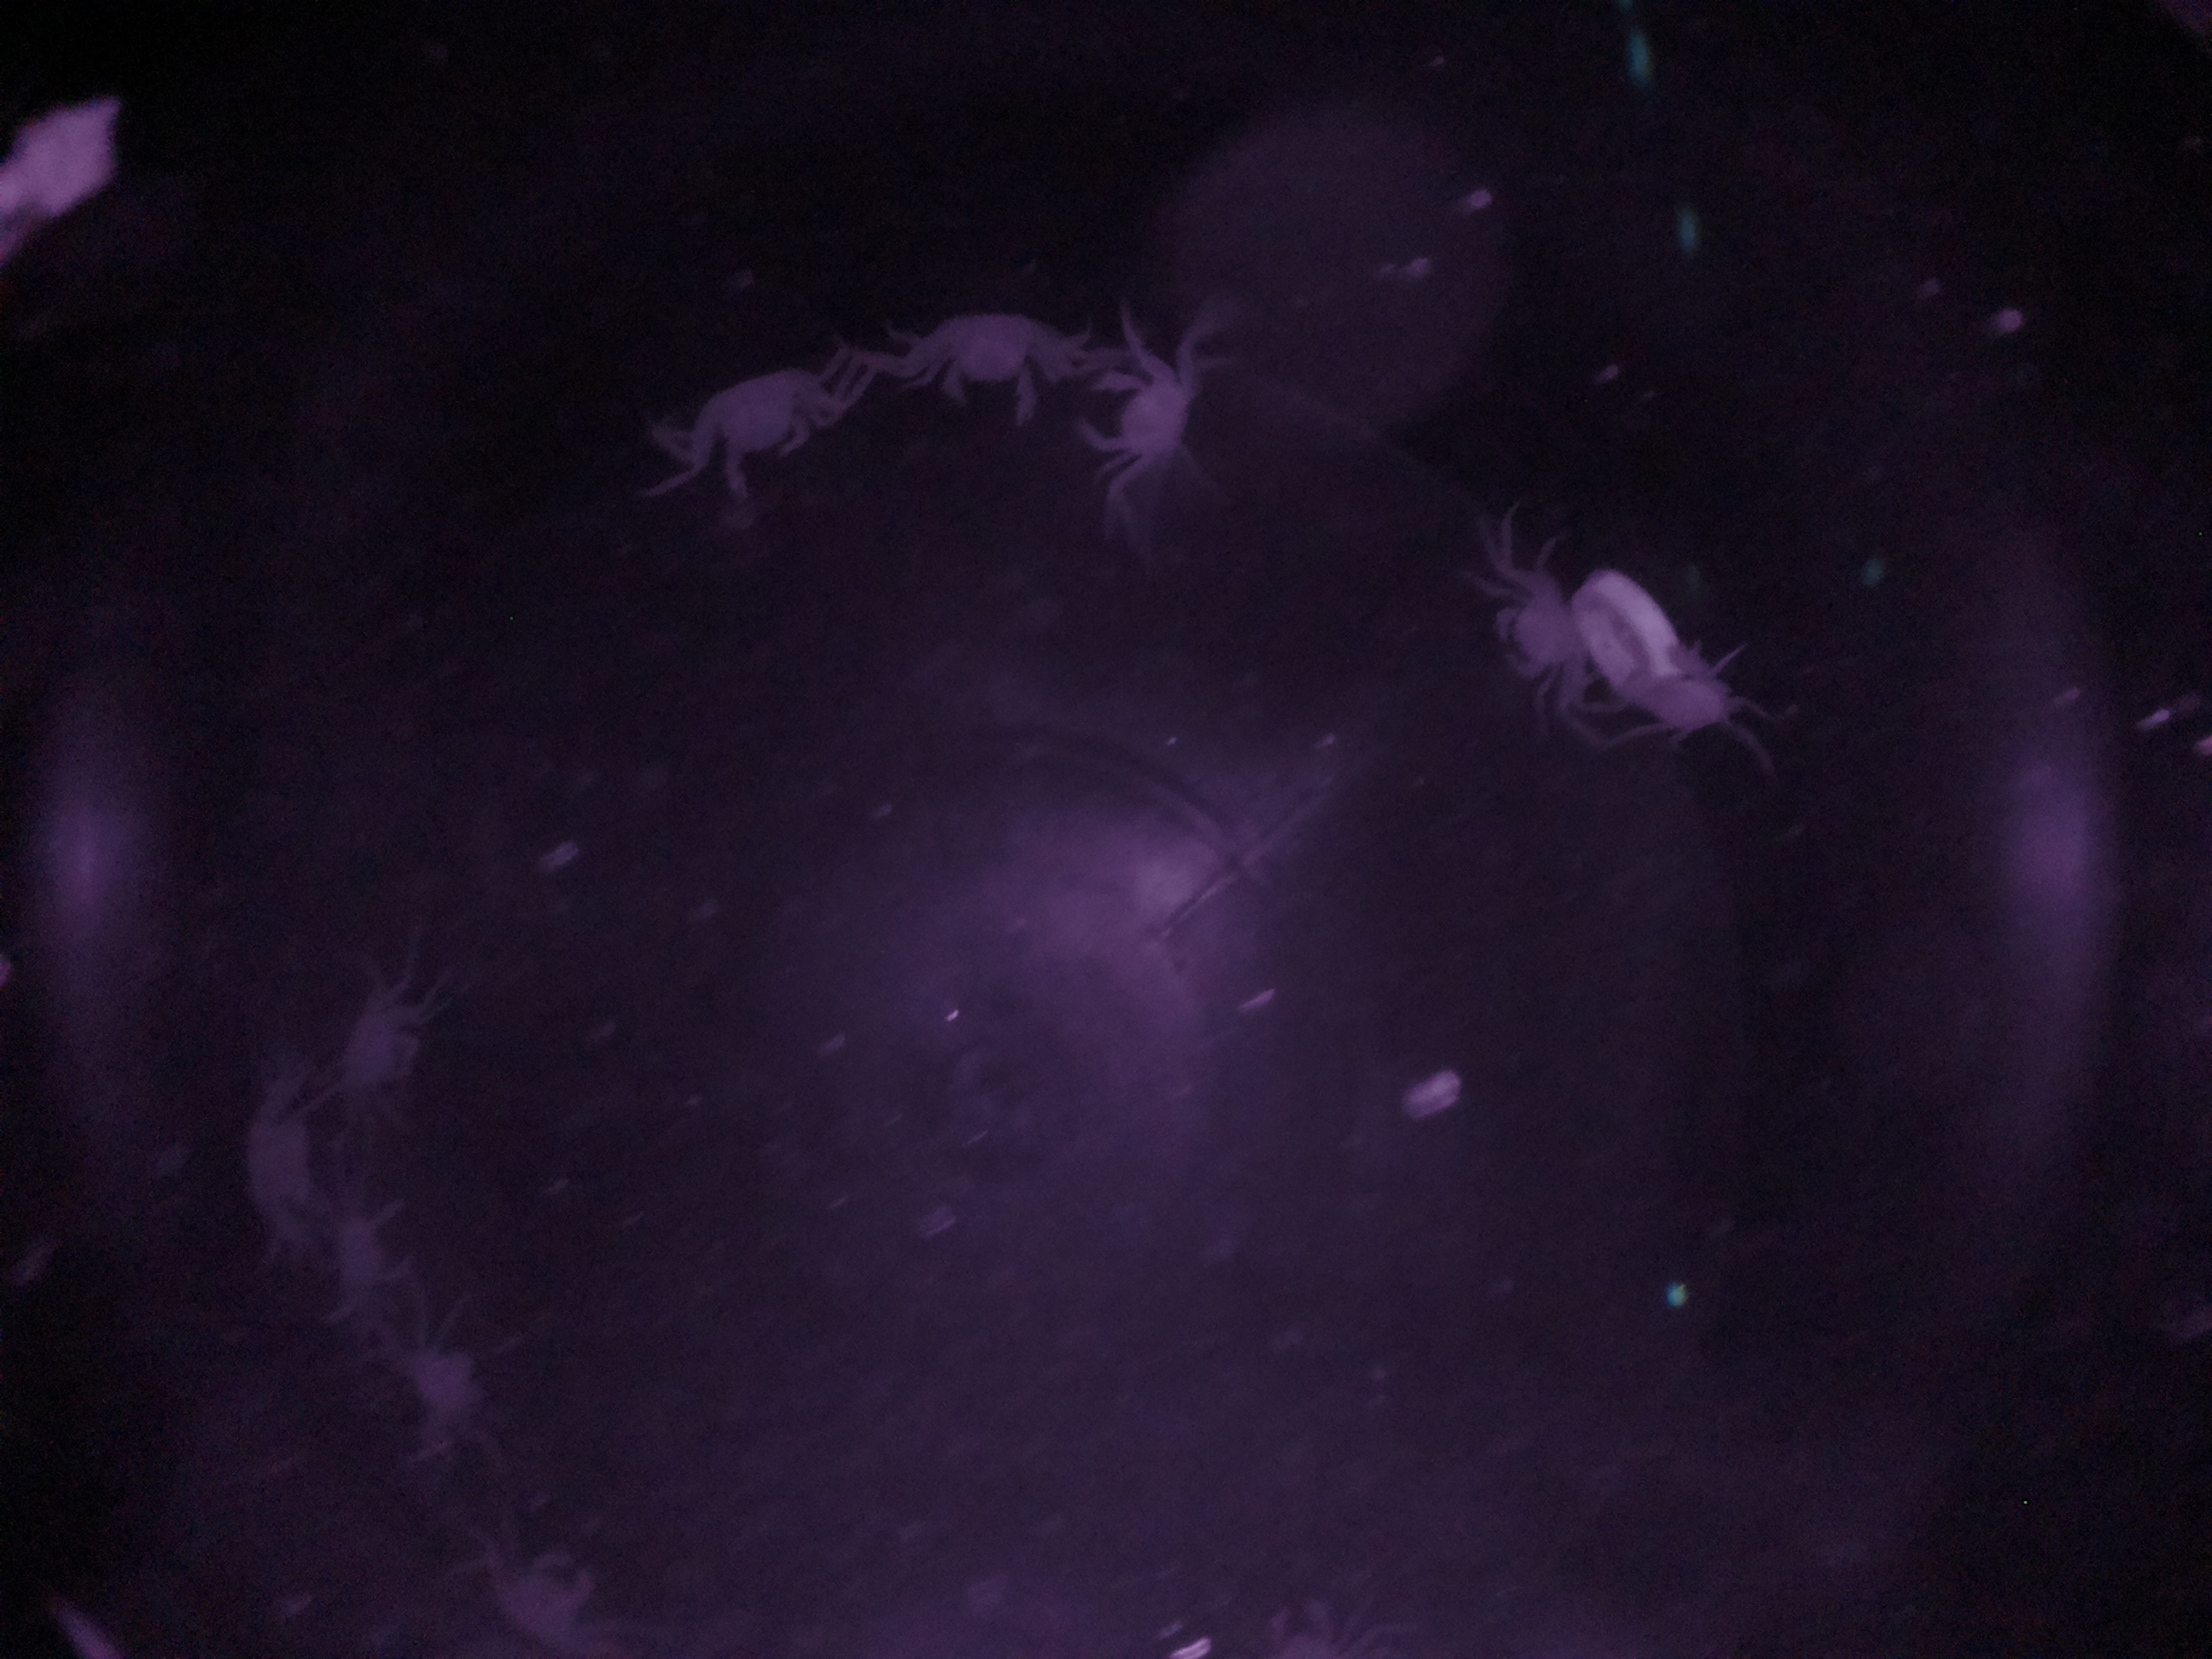Crab: (674, 352, 841, 509), (1064, 338, 1223, 493), (909, 281, 1052, 425), (1467, 570, 1613, 701)
